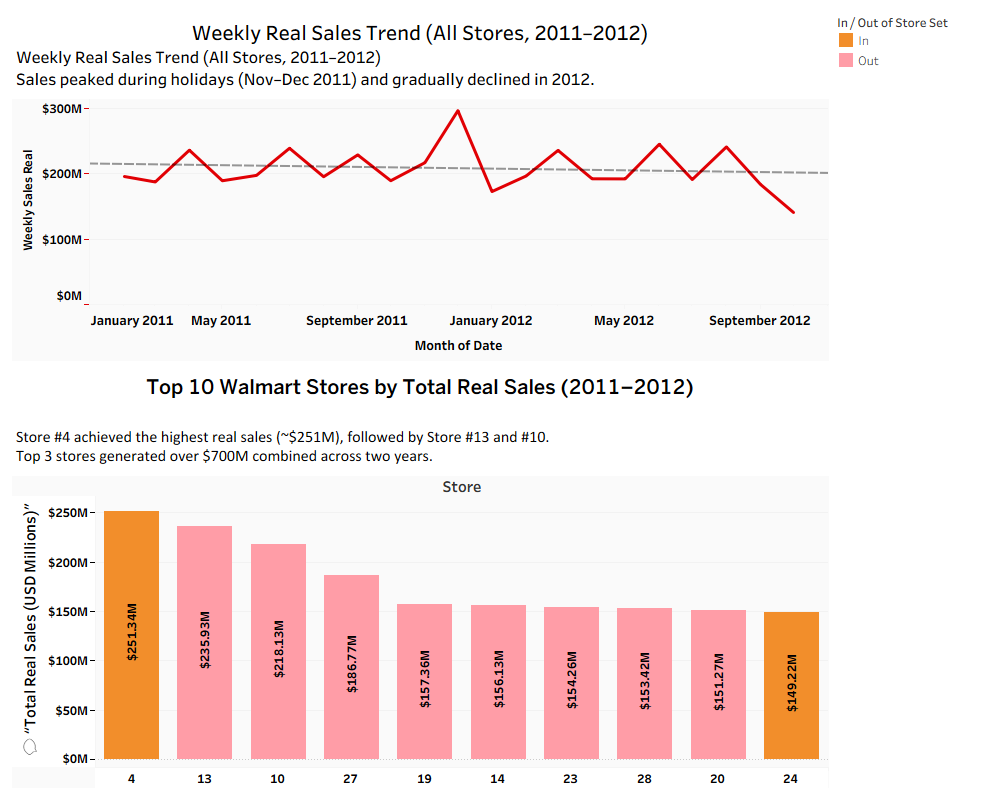

This screenshot's page, from the dashboard's own definition file:
{"tool":"tableau","page":{"name":"Dashboard 1","canvas":[1000,800],"ordinal":0},"visuals":[{"type":"worksheet","title":"Sheet 1","mark":"Line","rows":["Weekly_Sales_Real"],"cols":["Date"],"box":[8,8,824,357]},{"type":"legend","title":"Sheet 2","param":"[federated.16c2xef0uvswb019x4ki40y5qh1l].[io:Store Set:nk]","box":[832,8,160,66]},{"type":"worksheet","title":"Sheet 2","mark":"Automatic","rows":["Weekly_Sales_Real"],"cols":["Store"],"box":[8,365,824,427]}]}

Visuals, with their boxes in screenshot pixels (x1, y1, x2, y2), scaled from the page's 1000x800 canvas onto the 1000x800 screenshot:
"Sheet 1" worksheet (Line marks): crop(8, 8, 832, 365)
"Sheet 2" legend: crop(832, 8, 992, 74)
"Sheet 2" worksheet: crop(8, 365, 832, 792)
